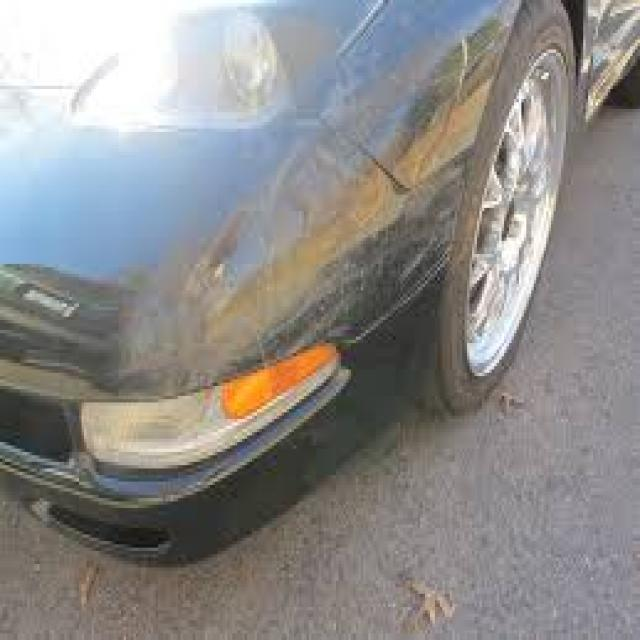minor: (277, 59, 481, 267)
